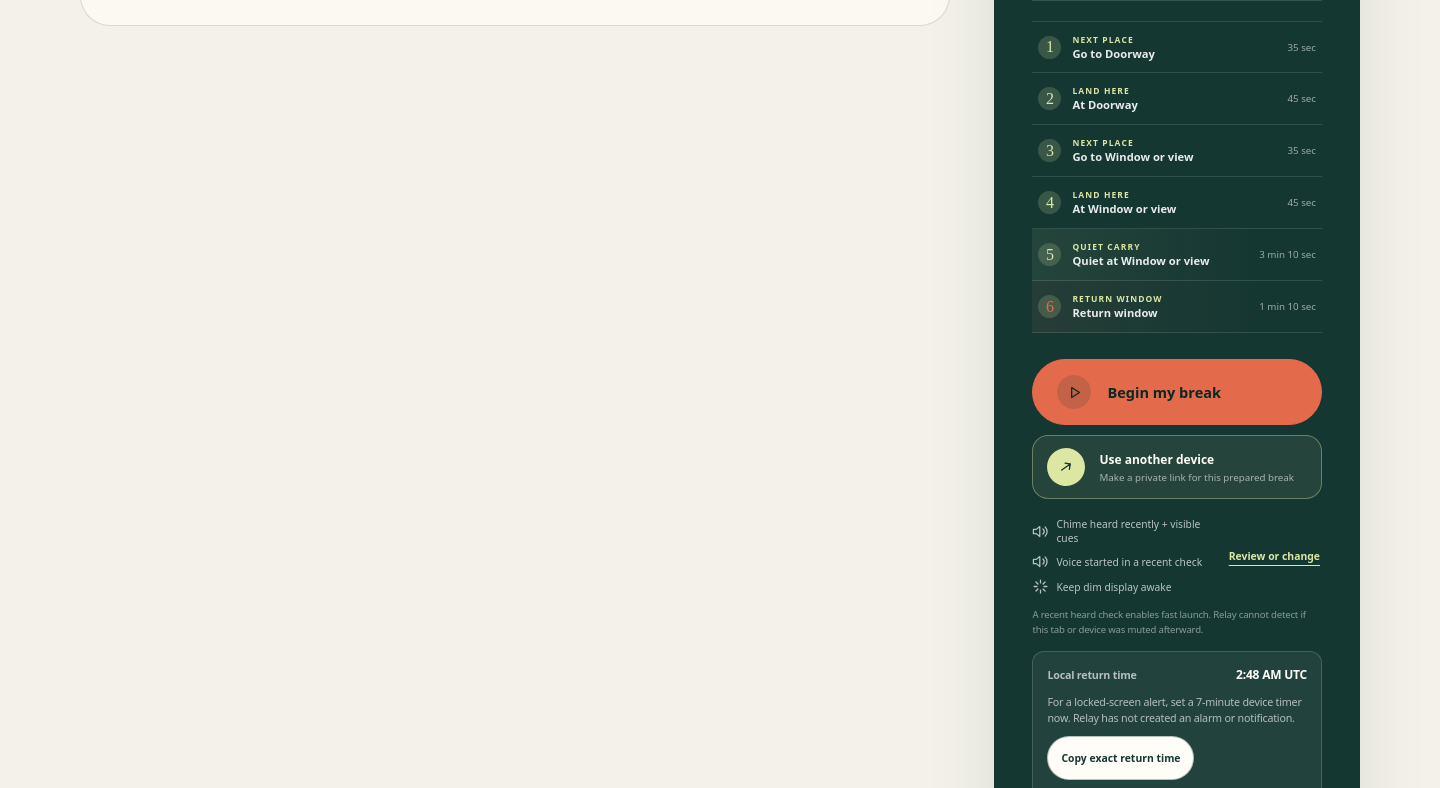
it: Break Relay › starts a returning relay from one primary action with remembered modes
(page scrolled)
Check: the text "Chime heard recently + visible cues" is shown, box [1032, 517, 1211, 545]
Check: the text "Voice started in a recent check" is shown, box [1032, 553, 1211, 570]
Step 1. Click the button "Begin my break" → (1177, 392), box [1032, 359, 1322, 425]
(page scrolled)
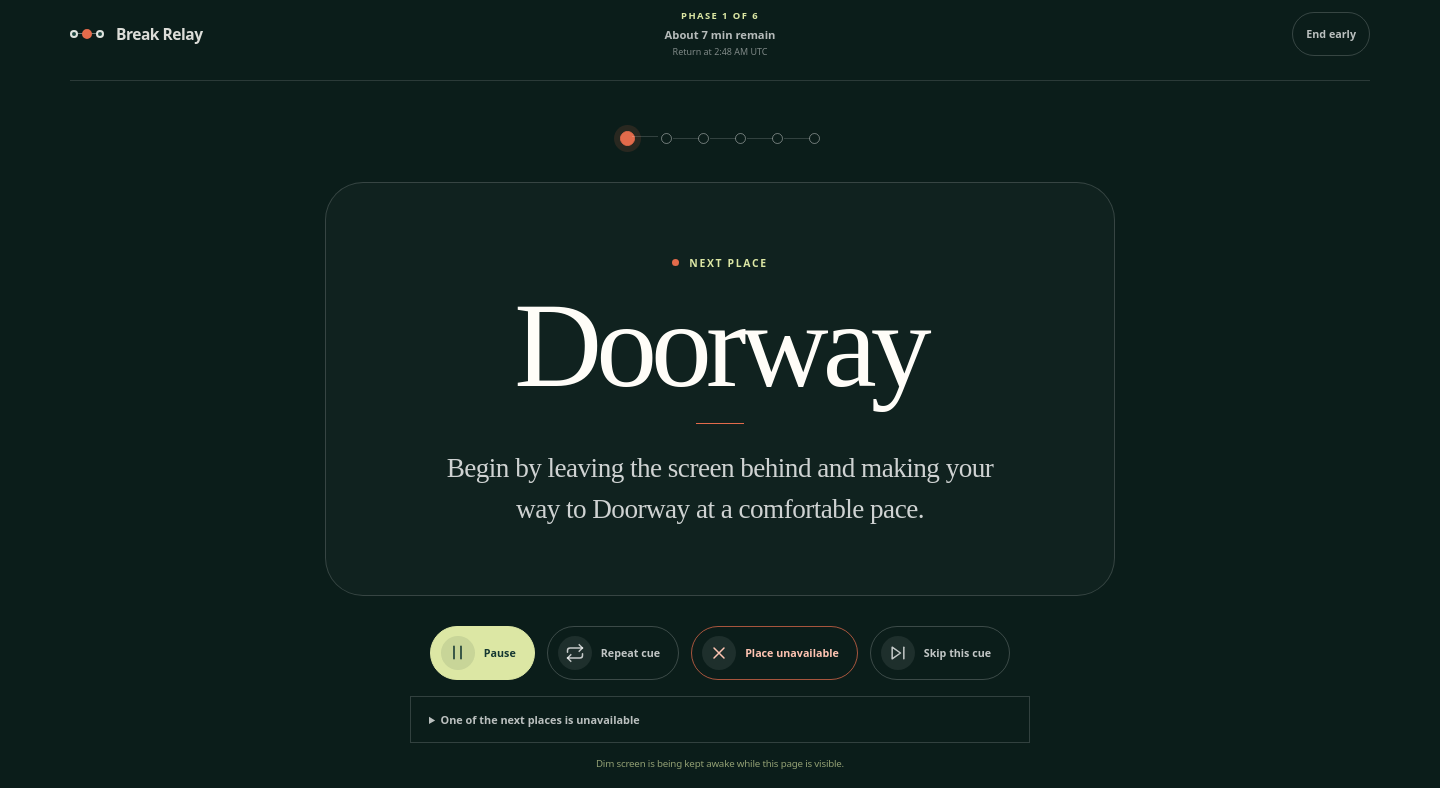
Check: the button "Pause" is shown, box [430, 626, 535, 680]
